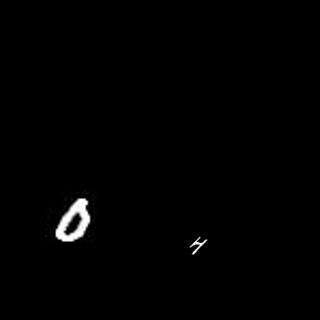four: (190, 233, 207, 255)
zero: (50, 198, 93, 243)
